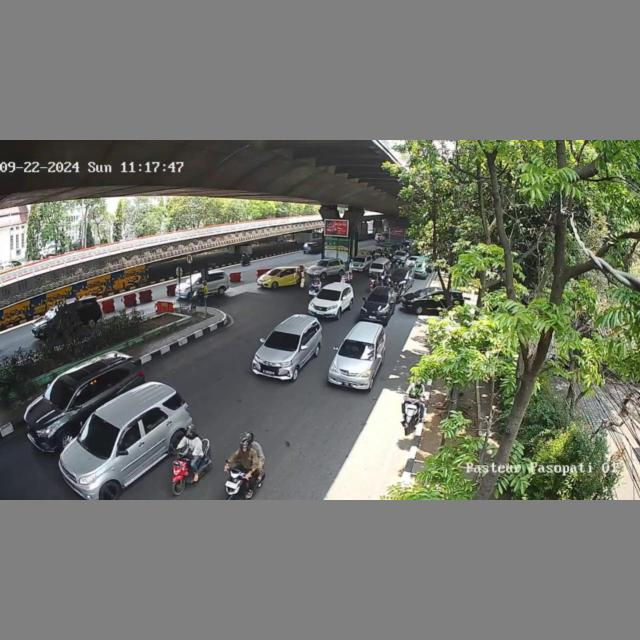windshield: (75, 416, 119, 457), (42, 379, 74, 406), (264, 333, 302, 352), (341, 339, 376, 359), (317, 289, 340, 300), (368, 294, 390, 303)
